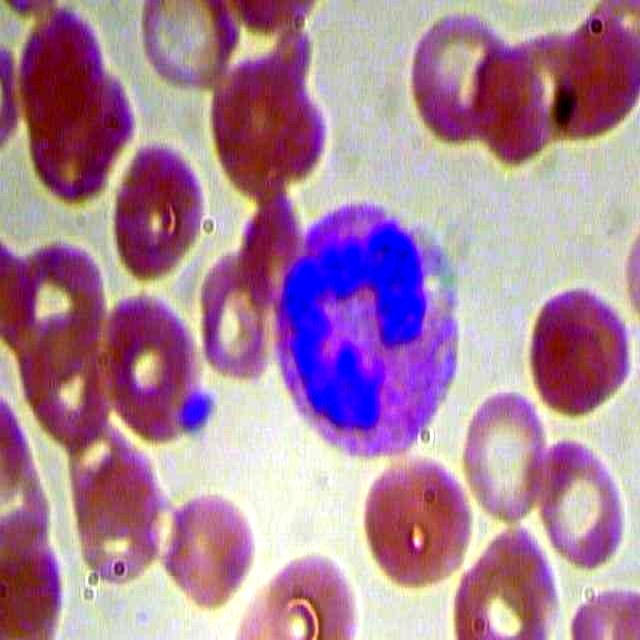Platelets: (181, 382, 219, 442)
RBC: (201, 50, 331, 206), (97, 287, 208, 453), (362, 448, 484, 592), (516, 284, 632, 425), (401, 1, 508, 151), (534, 431, 640, 577), (457, 387, 563, 533), (114, 143, 222, 285), (156, 492, 261, 615), (136, 1, 238, 95)
WBC: (272, 183, 473, 472)
